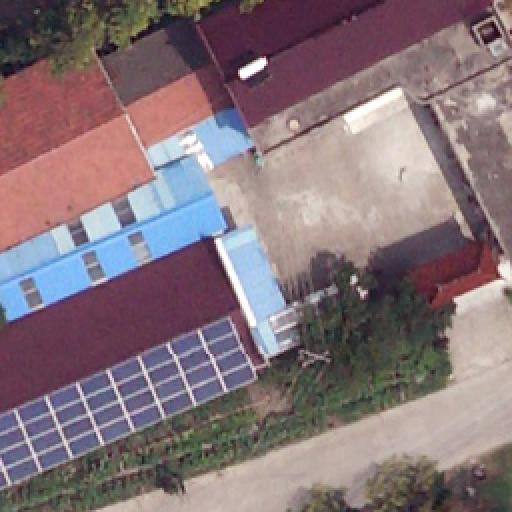solar-panel: (0, 314, 259, 489)
